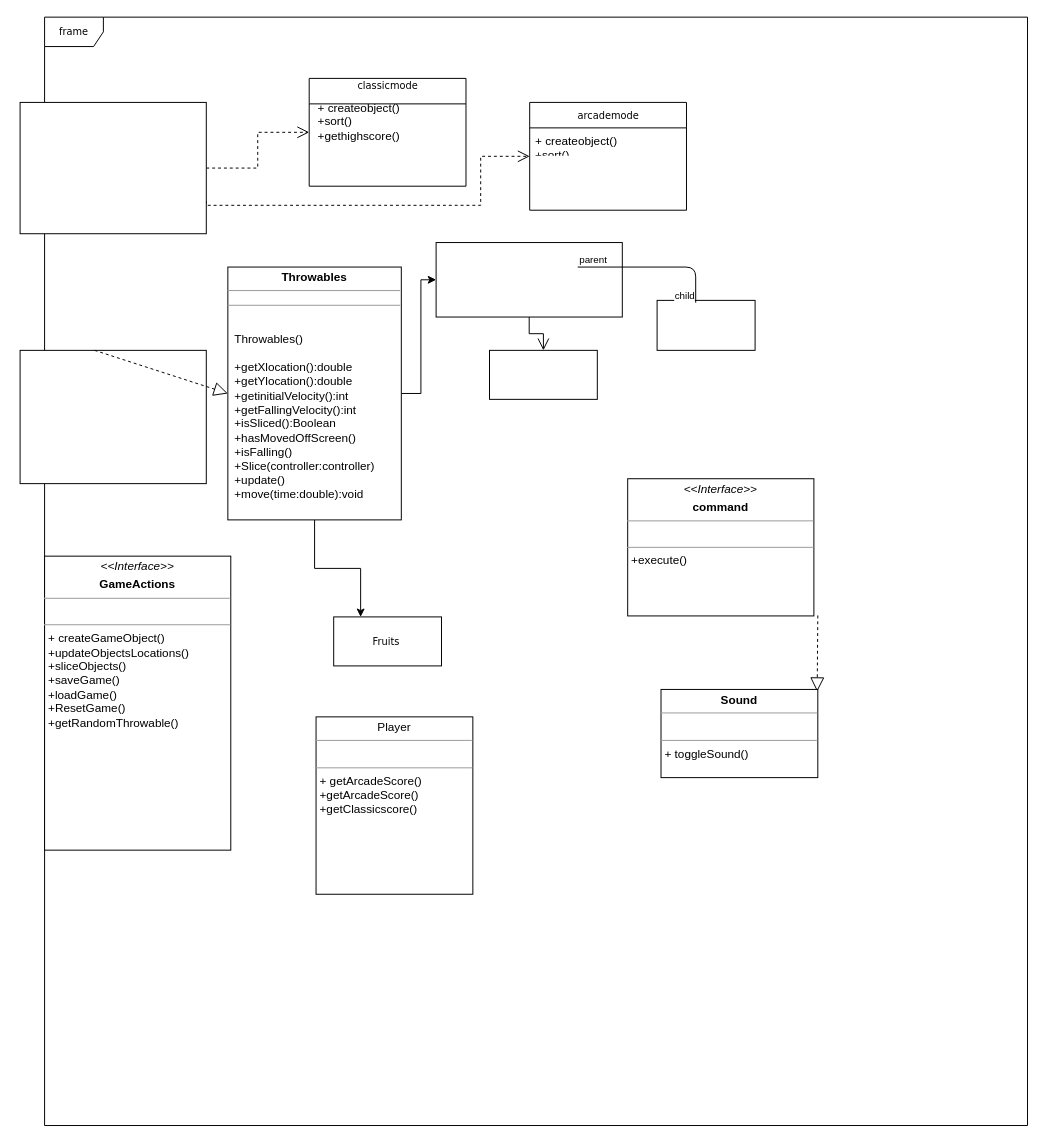
Image size: 1045x1143. Some labels were removed from this diagram. Each missing label, with the box of its shape:
<<Interface>> GameMode + createobject() +sort() +gethighscore(): (19, 101, 206, 234)
bombs slice() update(): (435, 242, 622, 317)
dangerousbomb: (656, 299, 755, 350)
fatalbomb: (489, 349, 597, 399)
GameObject + getXlocation () +getYlocation() + getMaxHeight (): (19, 349, 206, 484)
